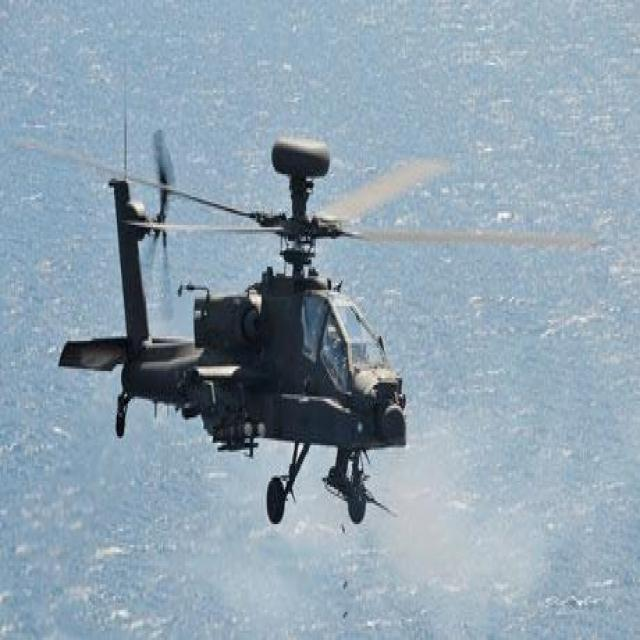MIL_HELO: (15, 89, 602, 543)
